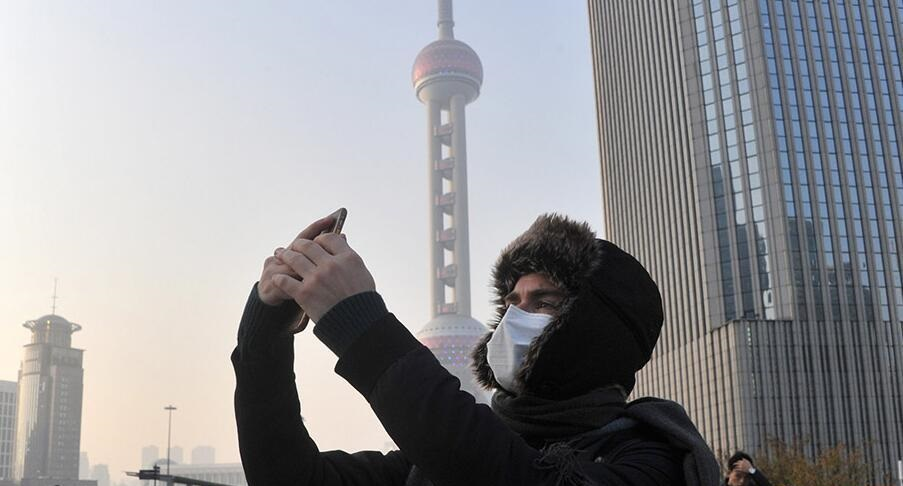face_mask: (488, 274, 563, 393)
